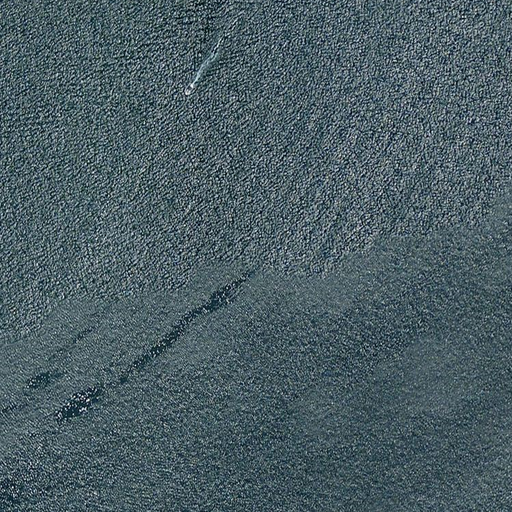ship: (184, 82, 196, 95)
